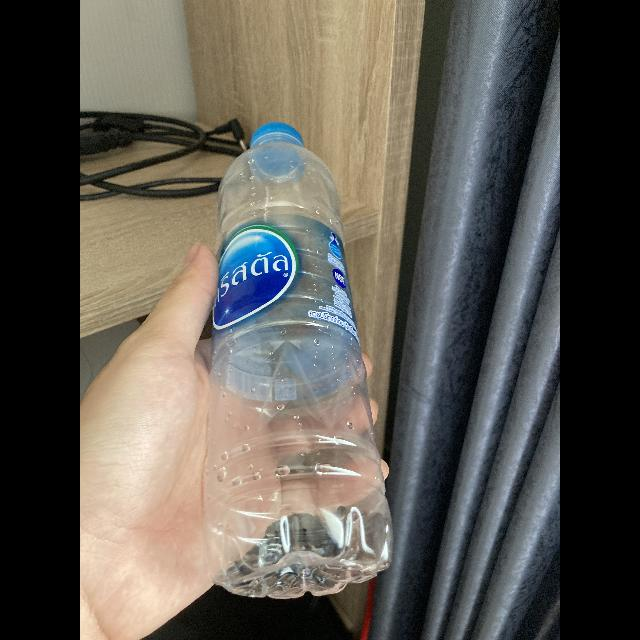plastic_bottle: (197, 119, 399, 603)
plastic_bottle_cap: (247, 116, 306, 180)
